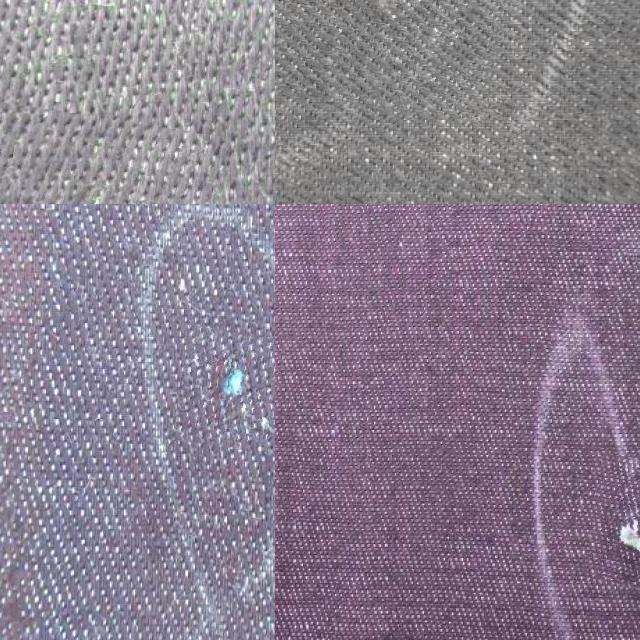stains: (275, 0, 510, 116), (0, 106, 221, 204), (176, 329, 275, 452), (586, 456, 640, 593)
